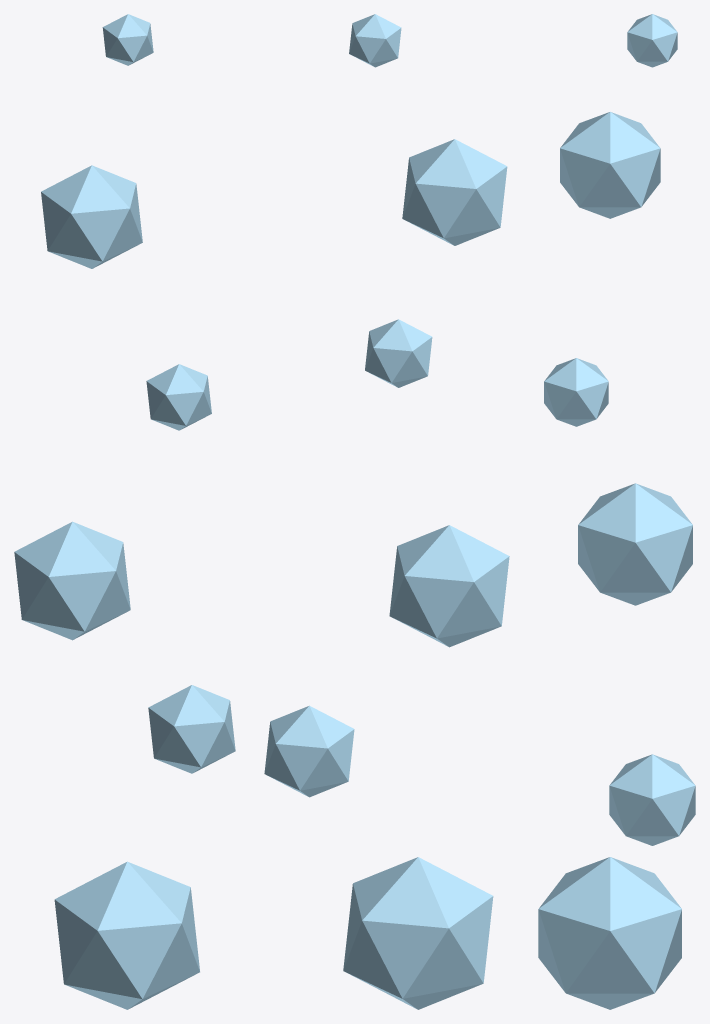
File: bubbles.glb
3 renders of one model, left to right at view 1: azimuth 30°, elevation 25°; view 2: azimuth 150°, elevation 25°; view 3: azimuth 270°, elevation 25°, orthographic. The views are drawn at different scales.
Visible parts, largest first — view 1: bubbles; view 2: bubbles; view 3: bubbles.
Boxes of the visible parts, x1,y1,x2,y2 form: bubbles: (14, 14, 235, 1009); bubbles: (264, 14, 509, 1009); bubbles: (538, 14, 695, 1009).
Bounding box in the file's own units: 0.3052 × 1.31 × 0.1861.
